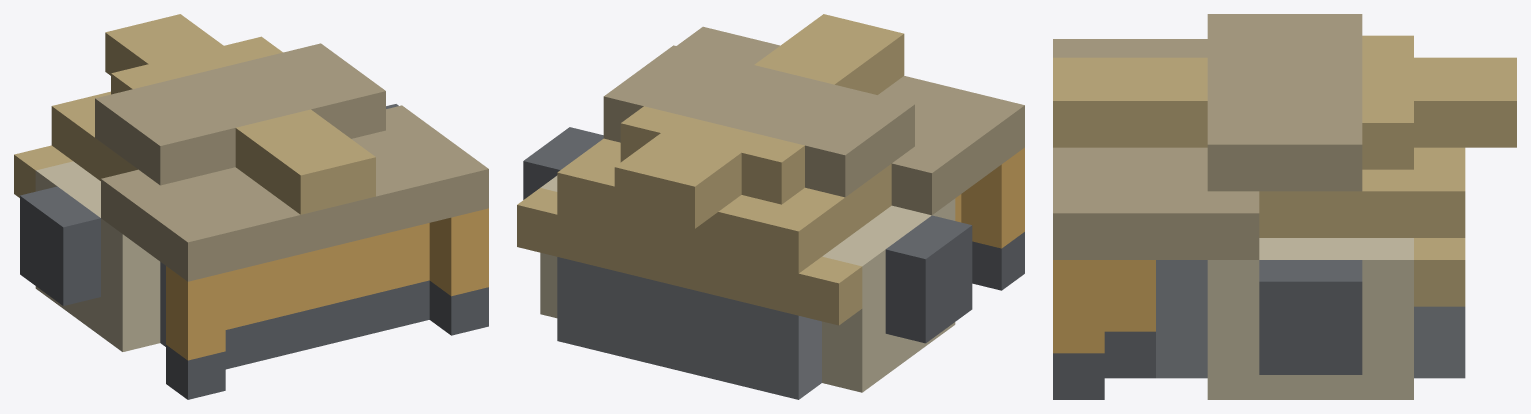
Rendered from head.glb.
3 views of the same model, side by side, from view 1: azimuth 30°, elevation 25°; view 2: azimuth 150°, elevation 25°; view 3: azimuth 270°, elevation 25° (orthographic). The views are drawn at different scales.
Size of the model in its own units: 10 by 5 by 9.
